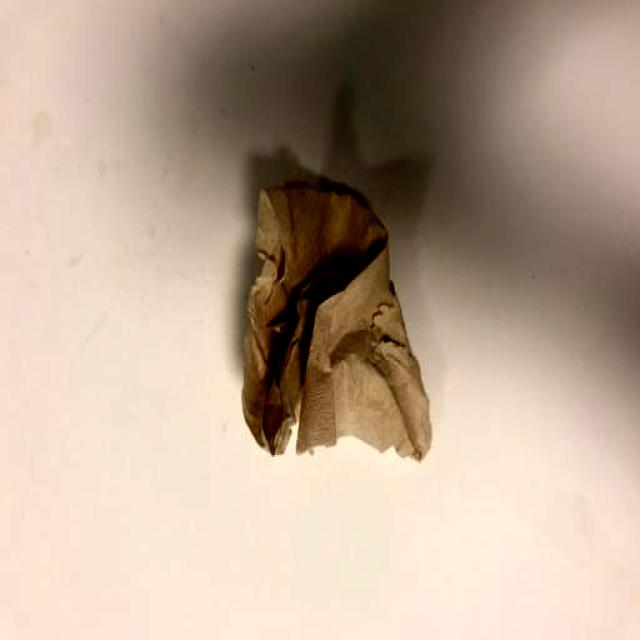Trash: (242, 182, 431, 465)
